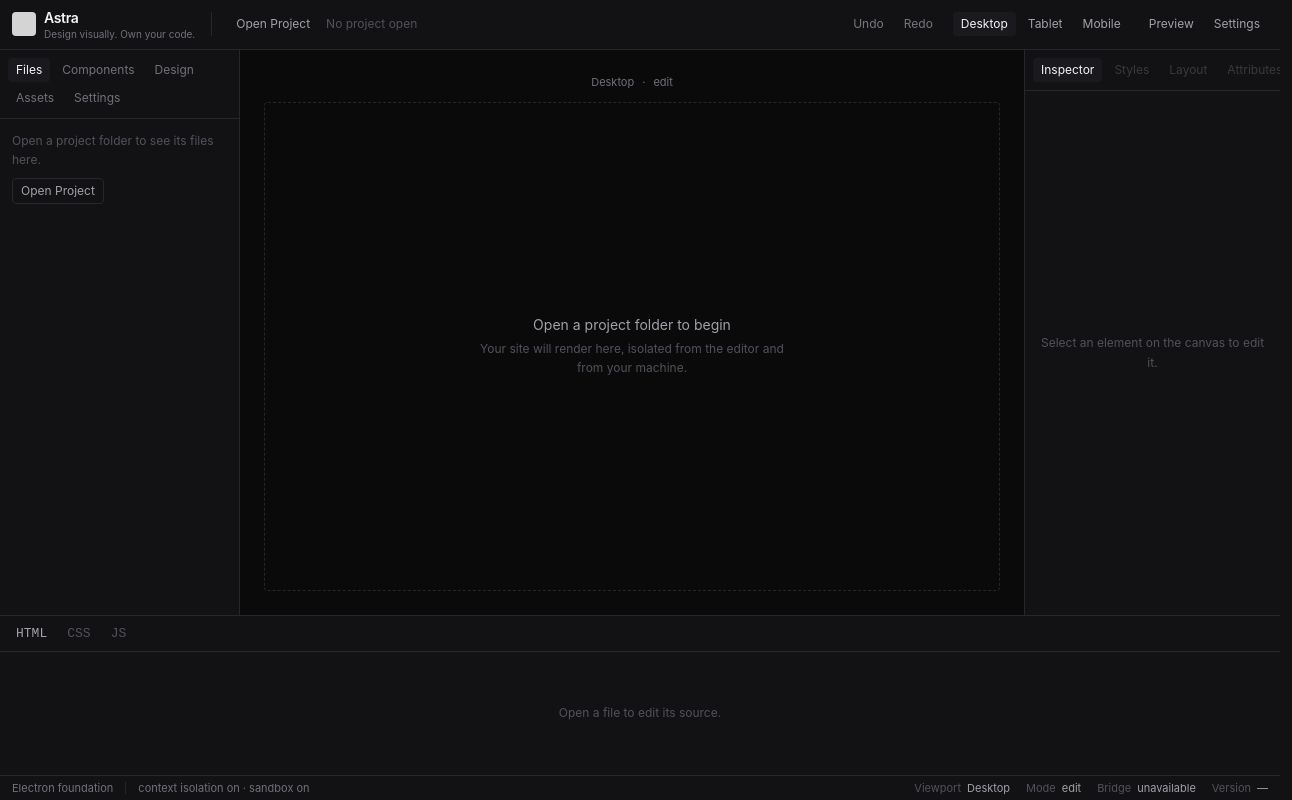
Scenario: App shell › switches sidebar sections and names each empty state
The width and height of the screenshot is (1292, 800).
Expected: the text "Open a project folder to see its files here." is shown, x1=12 y1=130 x2=227 y2=170
Click the tab "Components" at point(98, 70), box x1=54 y1=58 x2=142 y2=82
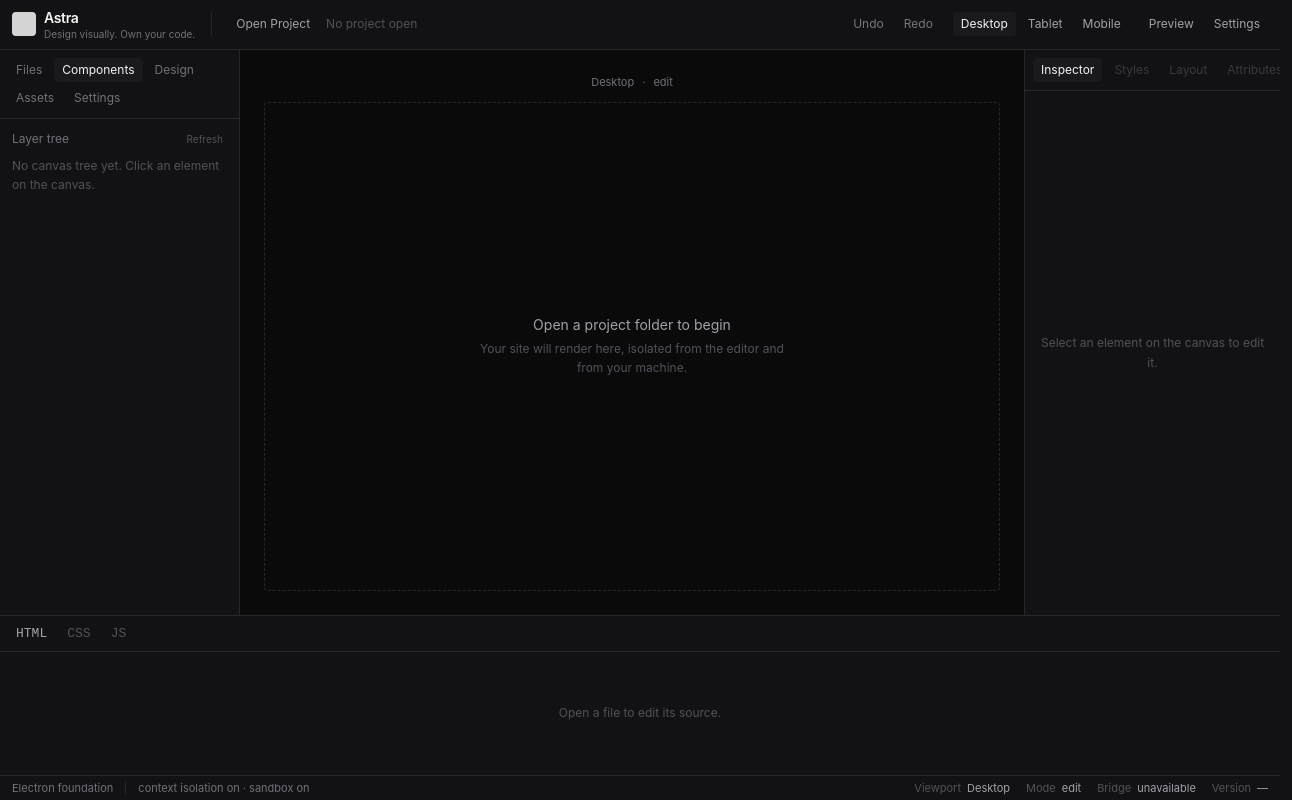
Now the text "No canvas tree yet. Click an element on the canvas." is shown, box x1=12 y1=156 x2=227 y2=195
